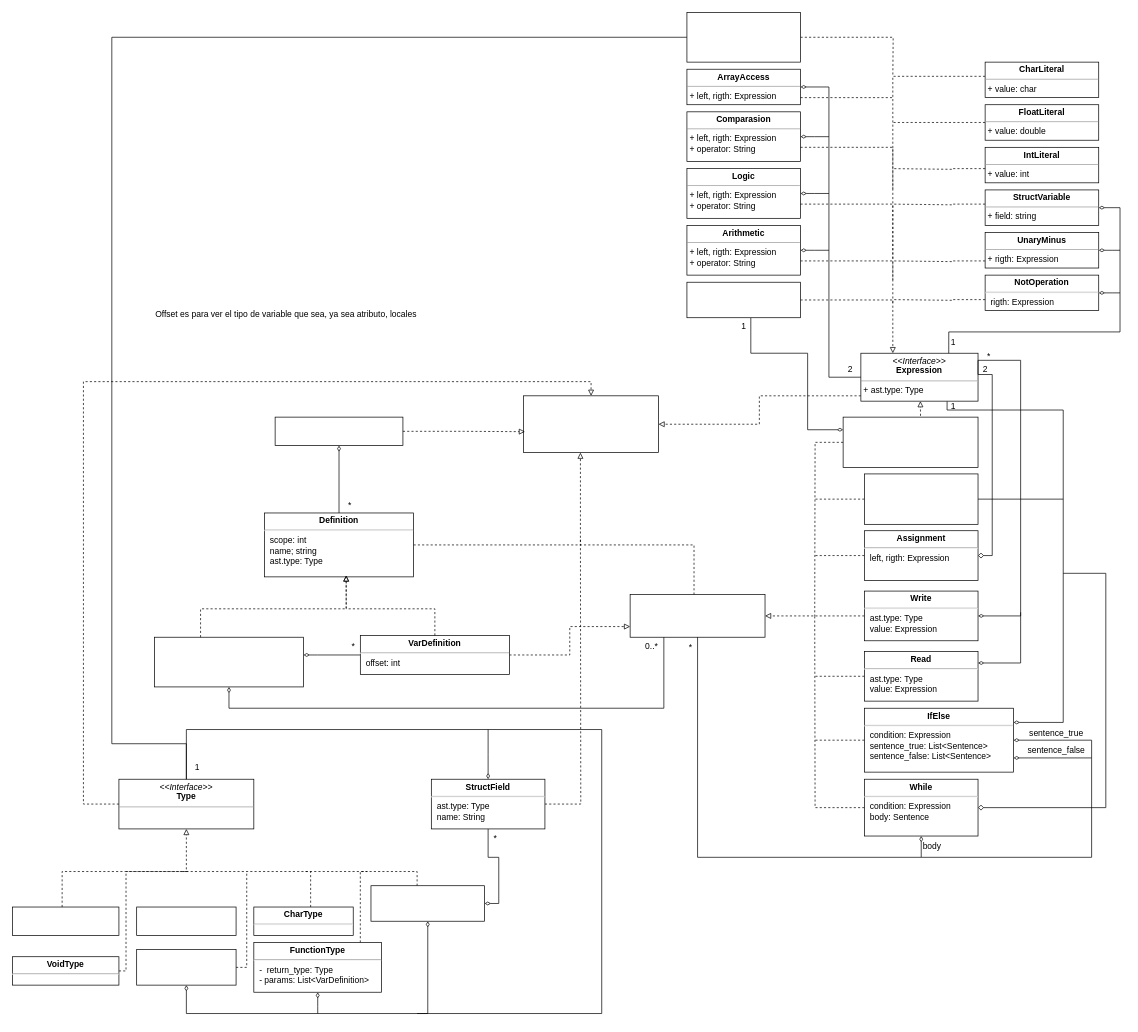
This 1138x1032 diagram has some shape labels left out. The shapes that lost their labels are listed below. From the top down, each one's box as (x1, y1, x2, y2) in pixels, then its label:
(686, 12, 801, 62): Cast + ast.type: Type + ast.expression: Expression
(686, 282, 801, 318): Variable + name: string
(274, 416, 403, 446): Program
(523, 395, 659, 453): <<Interface>> ASTNode + line, column: int
(842, 416, 978, 468): FunctionInvocation parameters: List<Expression> name: Variable
(864, 473, 978, 524): Return ast.type: Type value: Expression
(629, 594, 765, 637): <<Interface>> Statement
(154, 637, 304, 687): DefFuncion - ast.statement : List<Statement> - variables: List<VarDefinition>
(12, 906, 119, 935): IntType
(136, 906, 236, 935): FloatType
(370, 885, 485, 921): StructType fields: List<StructField>
(136, 949, 236, 985): ArrayType size: int
